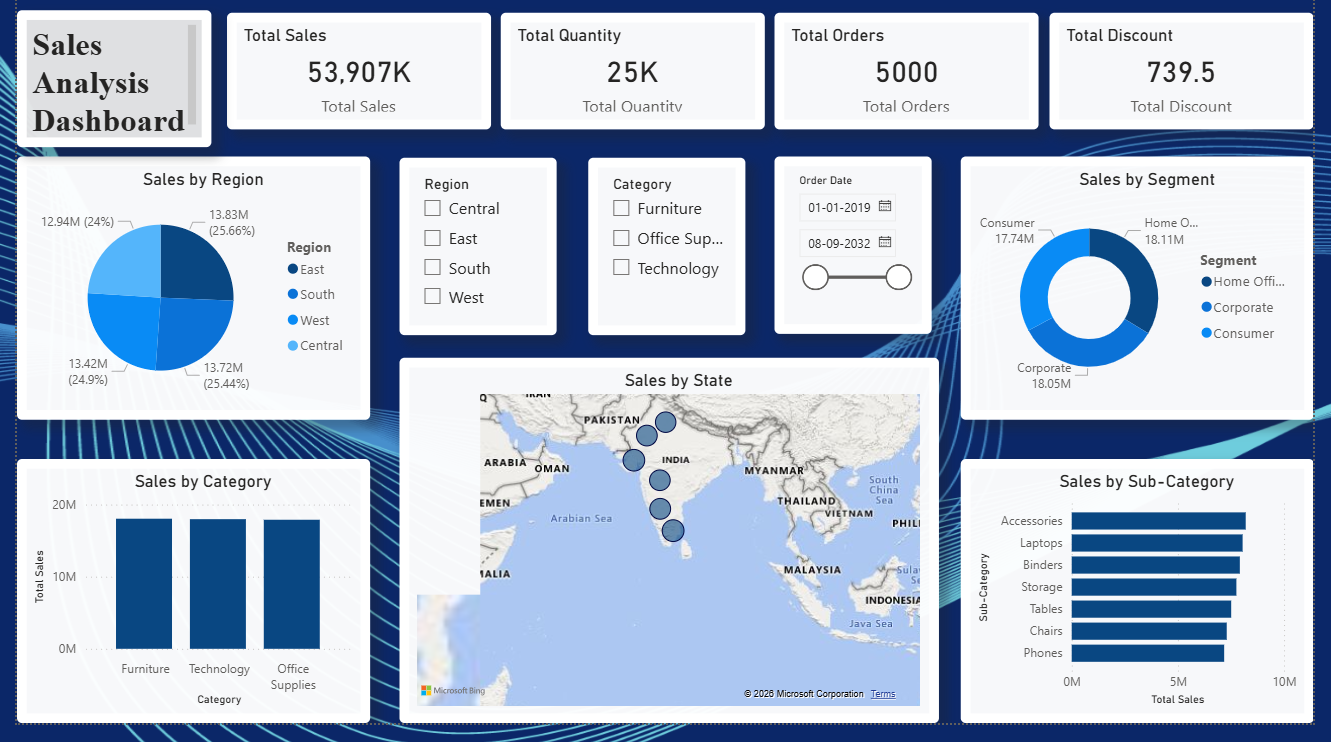

This screenshot's page, from the dashboard's own definition file:
{"tool":"powerbi","page":{"name":"Sales Analysis Dashboard","canvas":[1280,720],"ordinal":0},"visuals":[{"type":"card","title":"Total Sales","fields":{"Values":["sales_dashboard_dataset.Total Sales"]},"box":[207.9,18.3,260.5,114.9],"z":0},{"type":"card","title":"Total Quantity","fields":{"Values":["sales_dashboard_dataset.Total Quantity"]},"box":[478.1,18.3,260.5,114.9],"z":1000},{"type":"card","title":"Total Orders","fields":{"Values":["sales_dashboard_dataset.Total Orders"]},"box":[748.4,18.3,260.5,114.9],"z":2000},{"type":"card","title":"Total Discount","fields":{"Values":["sales_dashboard_dataset.total Discount"]},"box":[1019.8,18.3,260.5,114.9],"z":3000},{"type":"pieChart","title":"Sales by Region","fields":{"Y":["sales_dashboard_dataset.Total Sales"],"Category":["sales_dashboard_dataset.Region"]},"box":[0,160.5,349,260],"z":4000},{"type":"columnChart","title":"Sales by Category","fields":{"Y":["sales_dashboard_dataset.Total Sales"],"Category":["sales_dashboard_dataset.Category"]},"box":[0,459.8,348.5,260.5],"z":5000},{"type":"donutChart","title":"Sales by Segment","fields":{"Y":["sales_dashboard_dataset.Total Sales"],"Category":["sales_dashboard_dataset.Segment"]},"box":[931.7,160.5,349,260],"z":6000},{"type":"barChart","title":"Sales by Sub-Category","fields":{"Y":["sales_dashboard_dataset.Total Sales"],"Category":["sales_dashboard_dataset.Sub-Category"]},"box":[931.8,459.8,348.5,260.5],"z":7000},{"type":"map","title":"Sales by State","fields":{"Size":["sales_dashboard_dataset.Total Sales"],"Category":["sales_dashboard_dataset.State"]},"box":[377.4,359.5,532.4,360.9],"z":8000},{"type":"slicer","fields":{"Values":["sales_dashboard_dataset.Region"]},"box":[377.9,161.4,155,175],"z":9000},{"type":"slicer","fields":{"Values":["sales_dashboard_dataset.Category"]},"box":[563.7,161.4,155,175],"z":10000},{"type":"slicer","fields":{"Values":["sales_dashboard_dataset.Order Date"]},"box":[748.4,160.2,155,175],"z":11000},{"type":"textbox","box":[0,16,192,135],"z":12000}]}

Visuals, with their boxes in screenshot pixels (x1, y1, x2, y2), scaled from the page's 1280x720 canvas onto the 1331x742 screenshot:
"Total Sales" card: [216,19,487,137]
"Total Quantity" card: [497,19,768,137]
"Total Orders" card: [778,19,1049,137]
"Total Discount" card: [1060,19,1330,137]
"Sales by Region" pieChart: [0,165,363,433]
"Sales by Category" columnChart: [0,474,362,741]
"Sales by Segment" donutChart: [969,165,1330,433]
"Sales by Sub-Category" barChart: [969,474,1330,741]
"Sales by State" map: [392,370,946,741]
slicer - sales_dashboard_dataset.Region: [393,166,554,347]
slicer - sales_dashboard_dataset.Category: [586,166,747,347]
slicer - sales_dashboard_dataset.Order Date: [778,165,939,345]
textbox: [0,16,200,156]
